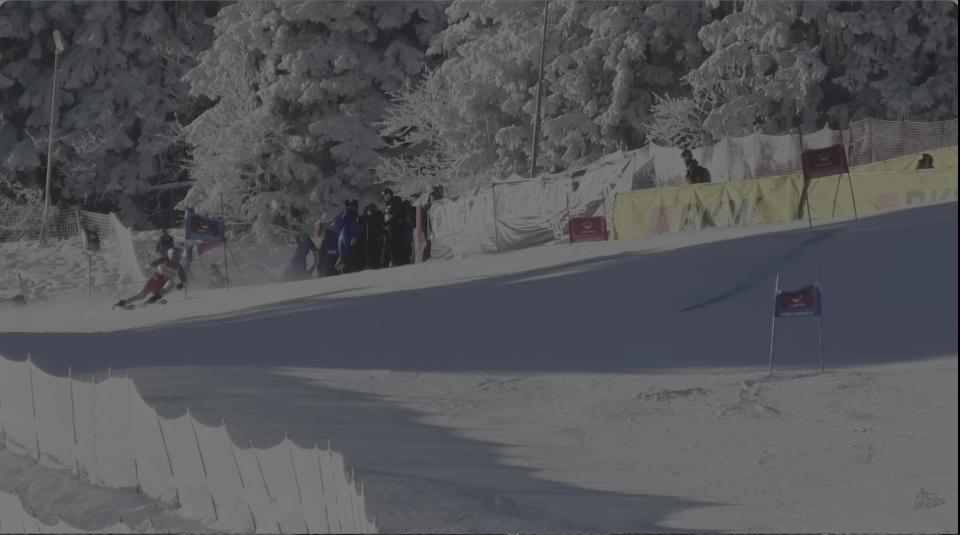gate: (749, 264, 783, 393), (805, 271, 833, 381)
